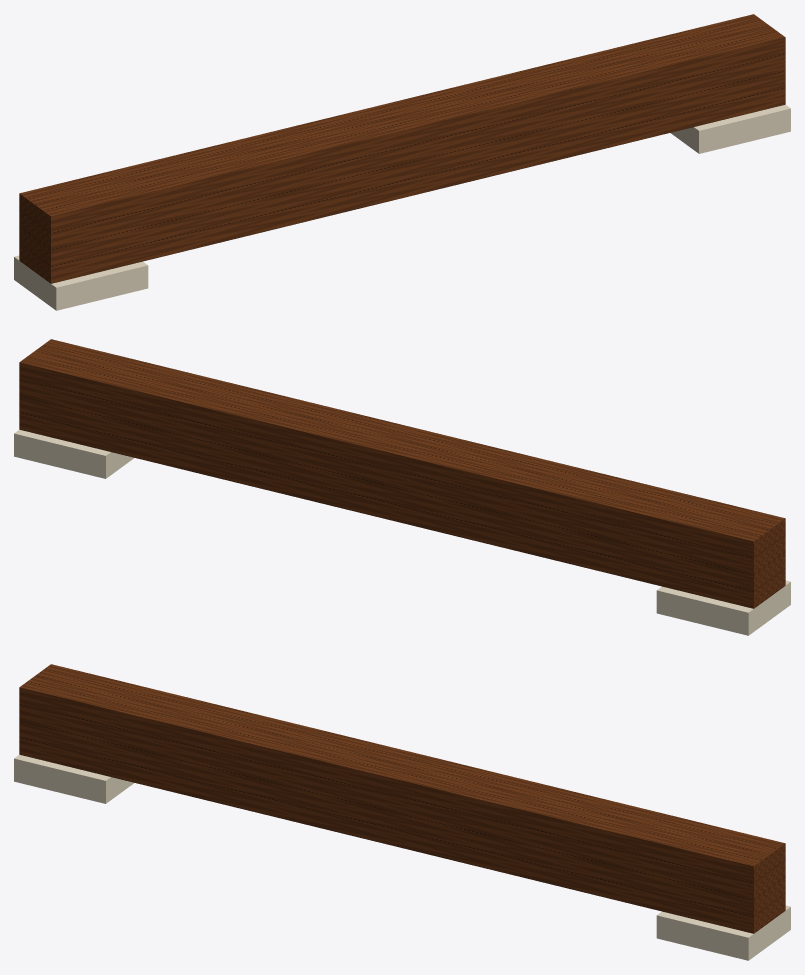
Rendered from legendary-warriors-kit-gallery-architrave-c96cebf0__39226.glb.
The picture shows the model from 3 angles, top to bottom: view 1: azimuth 30°, elevation 25°; view 2: azimuth 150°, elevation 25°; view 3: azimuth 330°, elevation 25°; orthographic projection.
Visible parts, largest first — view 1: gallery-architrave; view 2: gallery-architrave; view 3: gallery-architrave.
Part boxes in pixels (x1,y1,x2,y2): gallery-architrave: [14, 14, 790, 310]; gallery-architrave: [14, 339, 790, 635]; gallery-architrave: [14, 664, 790, 960].
Bounding box in the file's own units: 4 × 0.4701 × 0.3999.
Materials: 2 (1 with a texture image).
